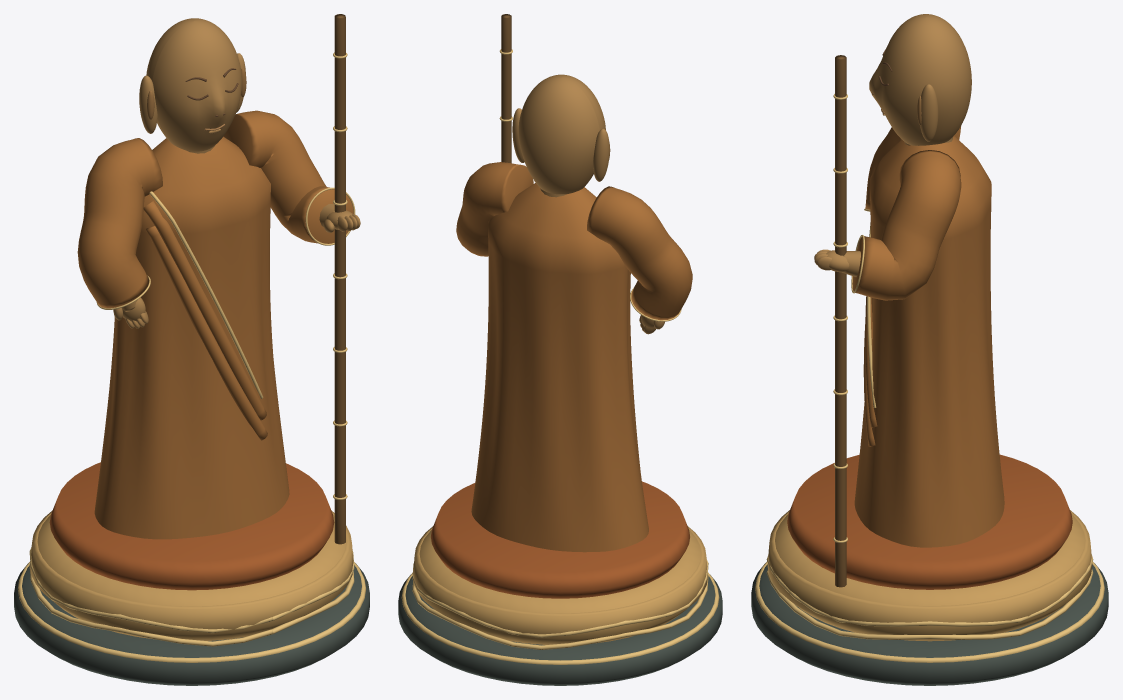
The model's file is arhat_08.glb.
3 renders of one model, left to right at view 1: azimuth 30°, elevation 25°; view 2: azimuth 150°, elevation 25°; view 3: azimuth 270°, elevation 25°, orthographic. The views are drawn at different scales.
Visible parts, largest first — view 1: arhat_08_ArhatDrapery, arhat_08_SaffronDrapery, arhat_08_AntiqueGold, arhat_08_CarvedPlinth, arhat_08_WarmBronze, arhat_08_RaisedGoldBorders, arhat_08_CarvedBamboo; view 2: arhat_08_ArhatDrapery, arhat_08_SaffronDrapery, arhat_08_AntiqueGold, arhat_08_CarvedPlinth, arhat_08_WarmBronze, arhat_08_RaisedGoldBorders, arhat_08_CarvedBamboo; view 3: arhat_08_ArhatDrapery, arhat_08_SaffronDrapery, arhat_08_AntiqueGold, arhat_08_CarvedPlinth, arhat_08_WarmBronze, arhat_08_RaisedGoldBorders, arhat_08_CarvedBamboo.
Boxes of the visible parts, x1,y1,x2,y2 form: arhat_08_ArhatDrapery: (77,110,353,539); arhat_08_SaffronDrapery: (49,462,334,590); arhat_08_AntiqueGold: (30,510,353,640); arhat_08_CarvedPlinth: (14,563,369,685); arhat_08_WarmBronze: (113,18,360,328); arhat_08_RaisedGoldBorders: (18,52,365,662); arhat_08_CarvedBamboo: (334,14,345,544); arhat_08_ArhatDrapery: (456,162,692,552); arhat_08_SaffronDrapery: (431,481,689,598); arhat_08_AntiqueGold: (413,526,707,644); arhat_08_CarvedPlinth: (398,575,722,685); arhat_08_WarmBronze: (512,74,664,334); arhat_08_RaisedGoldBorders: (401,49,719,664); arhat_08_CarvedBamboo: (501,14,511,163); arhat_08_ArhatDrapery: (852,126,1004,547); arhat_08_SaffronDrapery: (787,454,1072,589); arhat_08_AntiqueGold: (767,510,1092,641); arhat_08_CarvedPlinth: (751,563,1108,685); arhat_08_WarmBronze: (814,14,971,276); arhat_08_RaisedGoldBorders: (755,94,1104,662); arhat_08_CarvedBamboo: (835,55,846,587).
Bounding box in the file's own units: 0.92 × 1.73 × 0.92.
